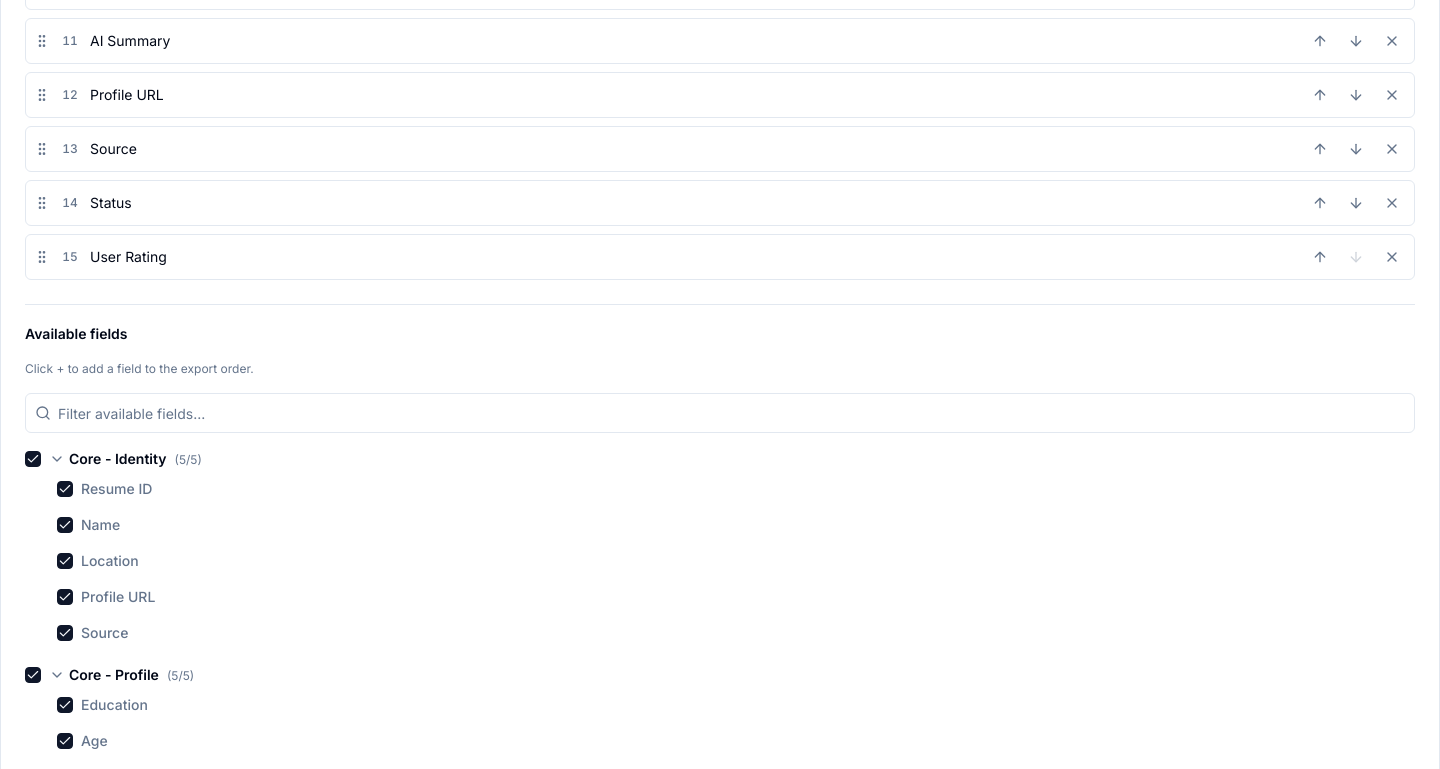
Scenario: SystemSettingsExportFieldsPage state › filters available fields by name and auto-expands matching groups
(page scrolled)
Expected: the checkbox named "Resume ID" is checked, [57,481,73,497]
In the field with test id "export-fields-search-input": (720, 413) [25,393,1415,433], type "brand"
(page scrolled)
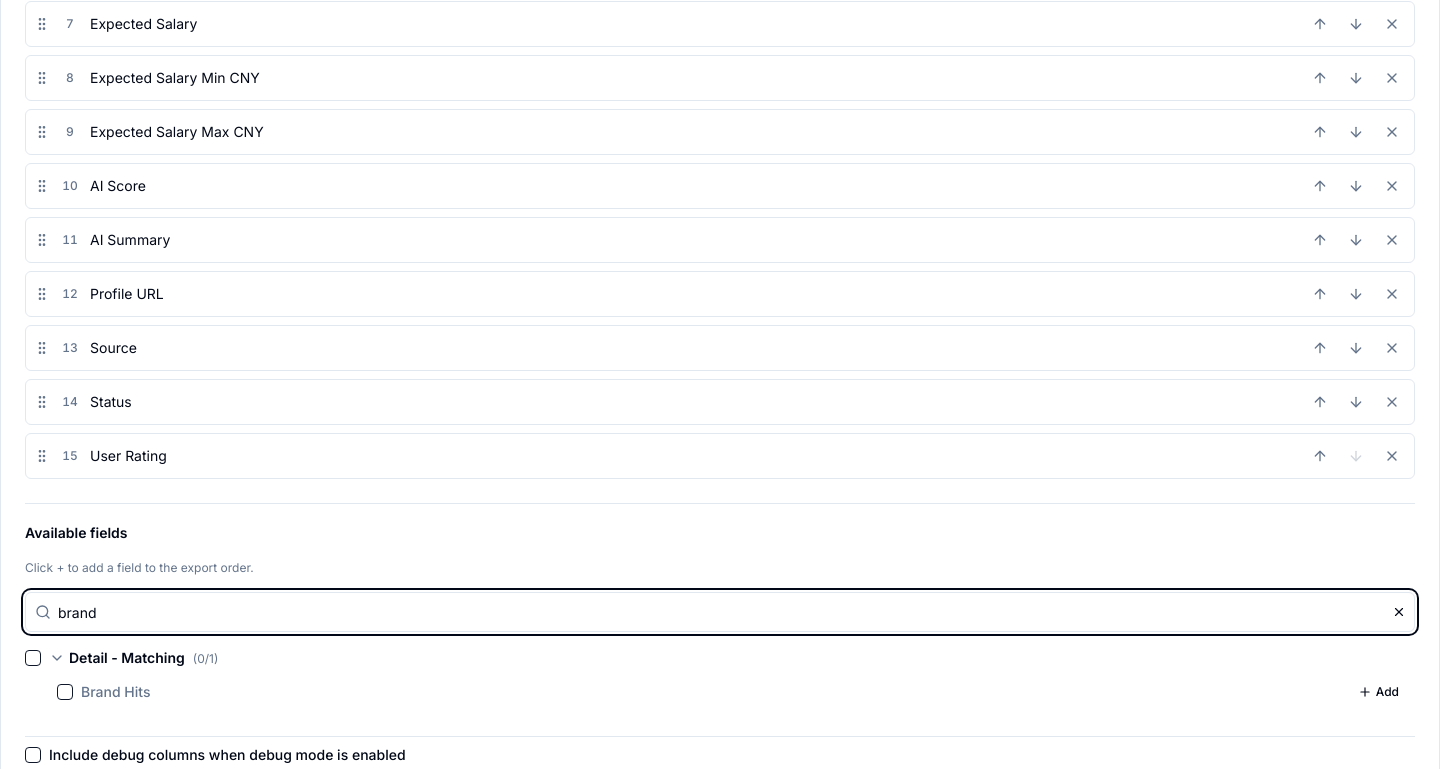
Expected: the text "Detail - Matching" is shown, [69,649,185,666]
Now the button "Core - Identity" is gone
# A filter with no matches shows the empty state
In the field with test id "export-fields-search-input": (720, 612) [25,592,1415,632], type "zzz"
(page scrolled)
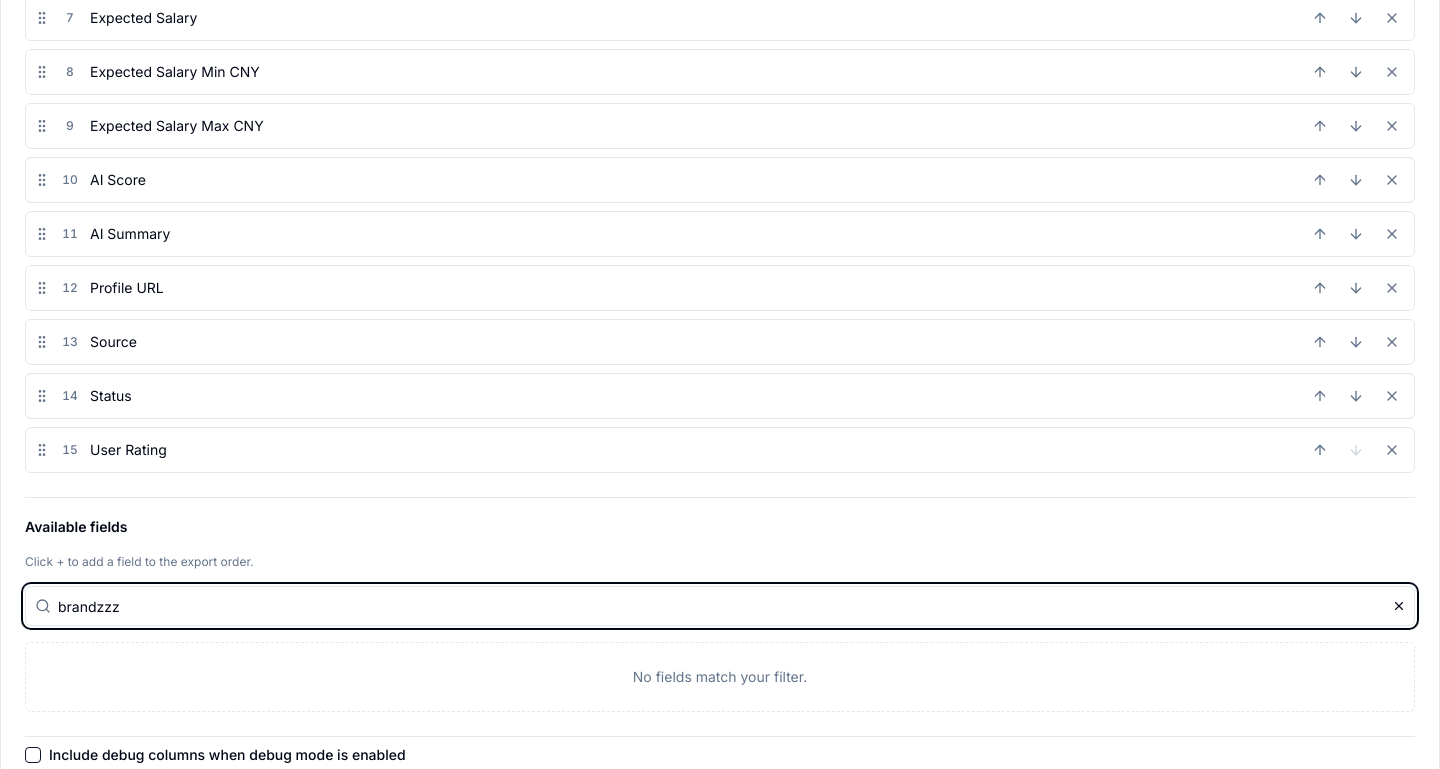
Now the text "No fields match your filter." is shown, box [25,642,1415,712]
# Clearing the filter restores every group
Click the button with test id "export-fields-clear-filter": (1399, 606) [1387,594,1411,618]
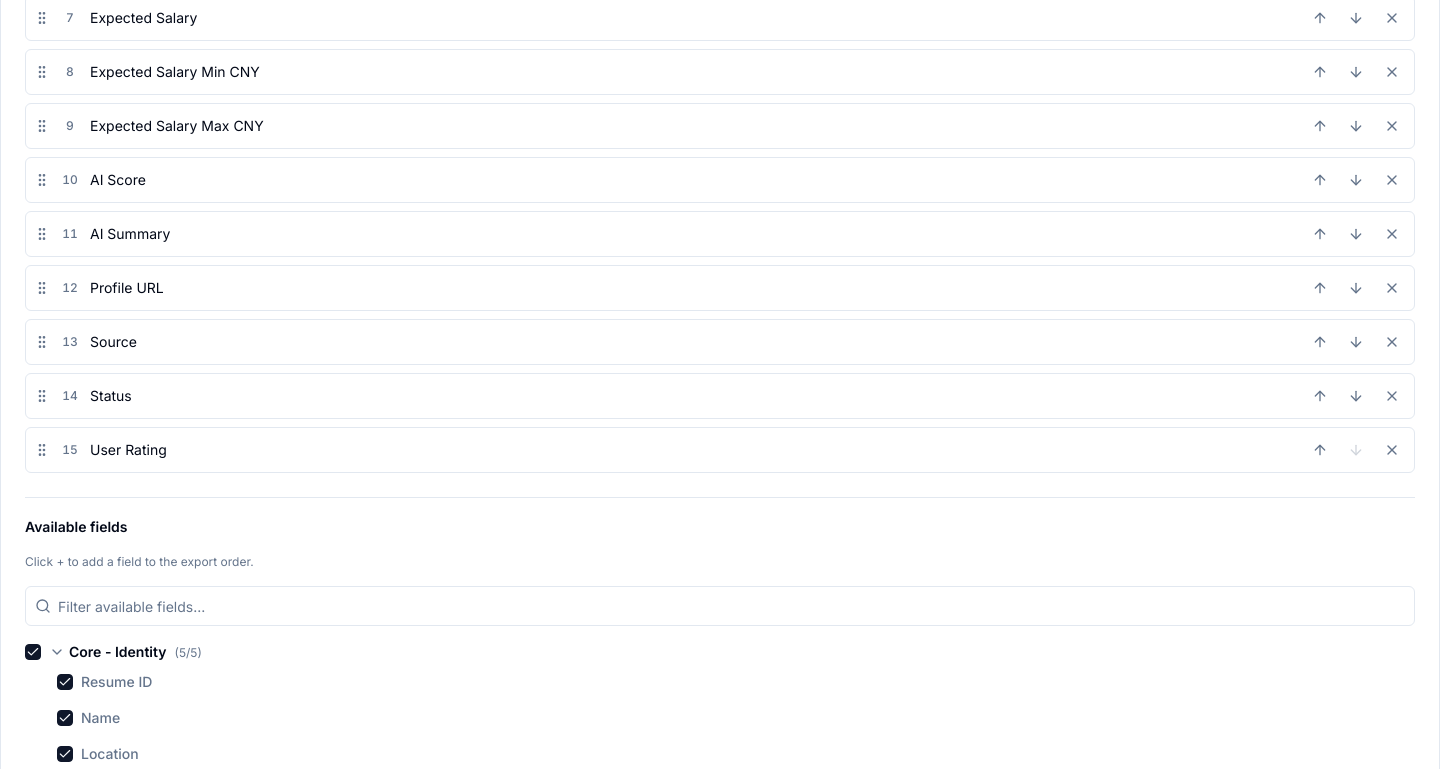
Now the text "Core - Identity" is shown, box [69,643,166,660]
Now the text with test id "export-fields-no-matches" is gone
